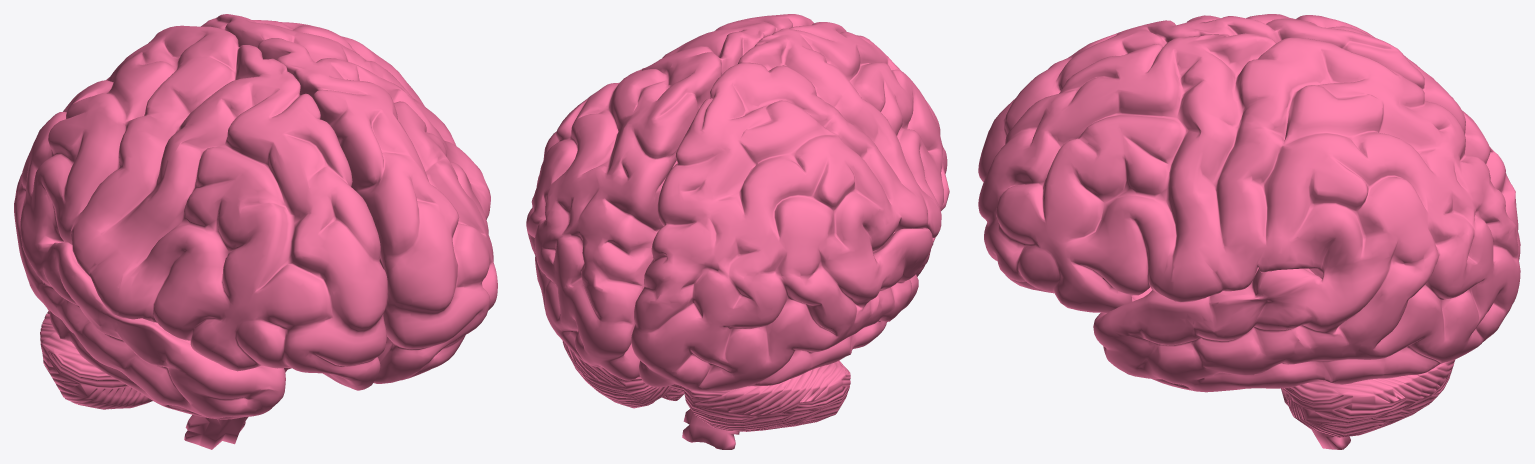
The model's file is brain.glb.
3 renders of one model, left to right at view 1: azimuth 30°, elevation 25°; view 2: azimuth 150°, elevation 25°; view 3: azimuth 270°, elevation 25°, orthographic. The views are drawn at different scales.
Parts seen in each view (by area): view 1: Brain_Part_06, Brain_Part_04, Brain_Part_02, Brain_Part_05; view 2: Brain_Part_06, Brain_Part_04, Brain_Part_02, Brain_Part_05; view 3: Brain_Part_04, Brain_Part_06, Brain_Part_02.
Boxes of the visible parts, x1,y1,x2,y2 form: Brain_Part_06: (14, 25, 387, 419); Brain_Part_04: (201, 14, 497, 383); Brain_Part_02: (40, 311, 290, 409); Brain_Part_05: (184, 368, 288, 449); Brain_Part_06: (631, 22, 949, 391); Brain_Part_04: (526, 14, 813, 380); Brain_Part_02: (562, 340, 850, 431); Brain_Part_05: (682, 409, 739, 449); Brain_Part_04: (978, 33, 1520, 392); Brain_Part_06: (978, 14, 1520, 259); Brain_Part_02: (1283, 359, 1455, 437).
Bounding box in the file's own units: 3.88 × 4.02 × 4.73.
